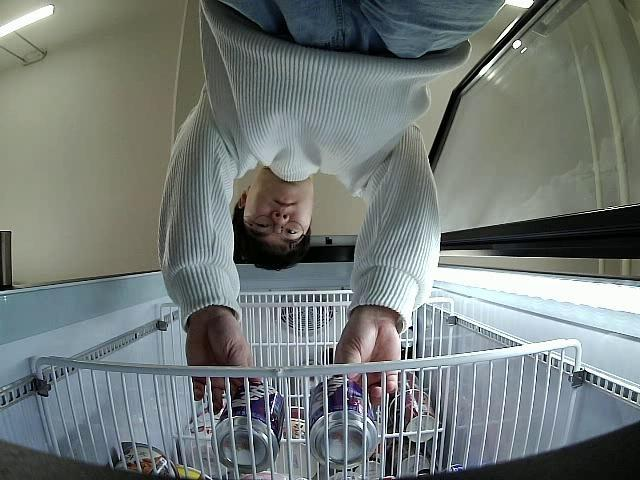14_welchsGrape: (306, 374, 376, 468), (216, 378, 284, 472)
